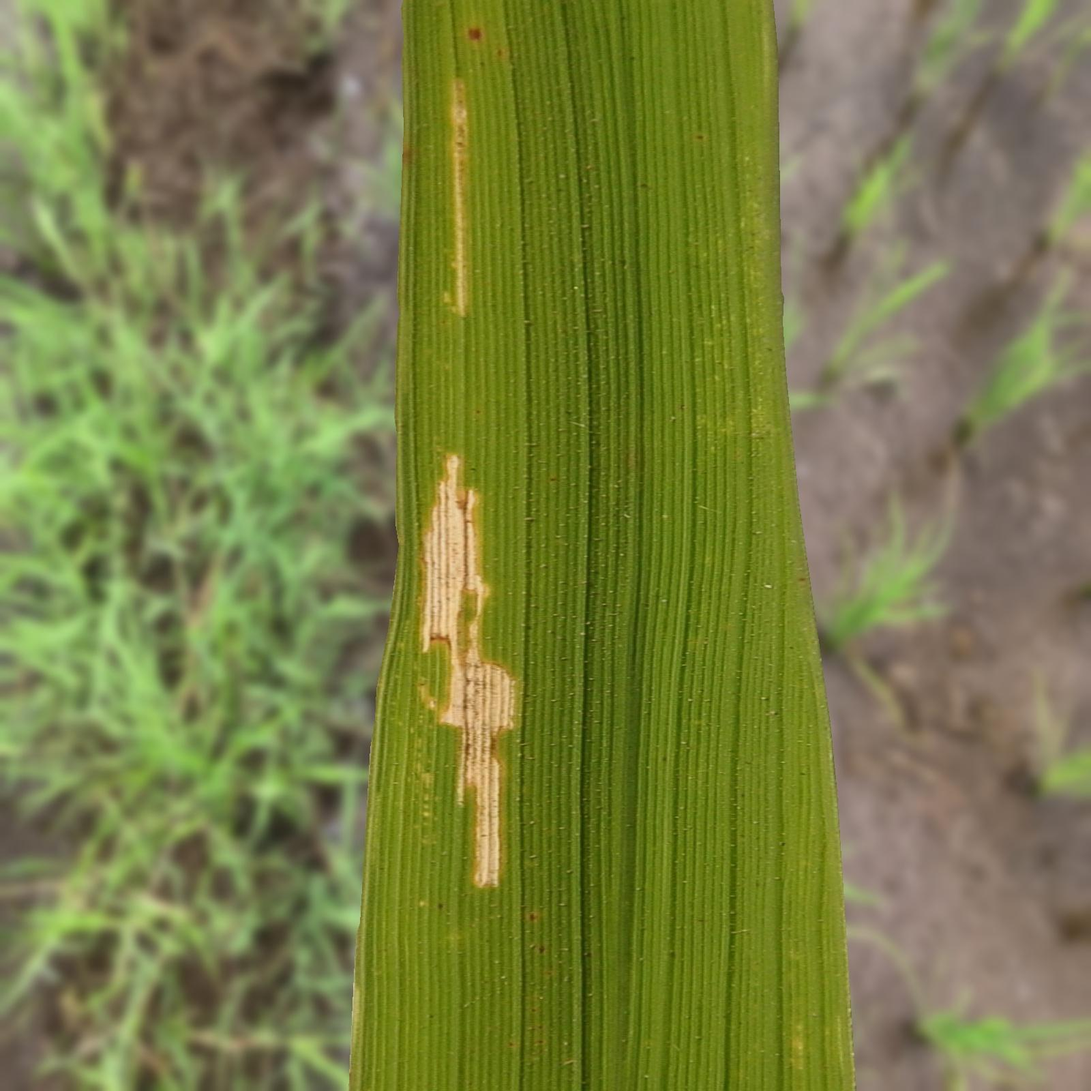BLS: (422, 454, 515, 886), (451, 78, 468, 316), (419, 683, 436, 711)
LEAF: (348, 0, 856, 1090)
